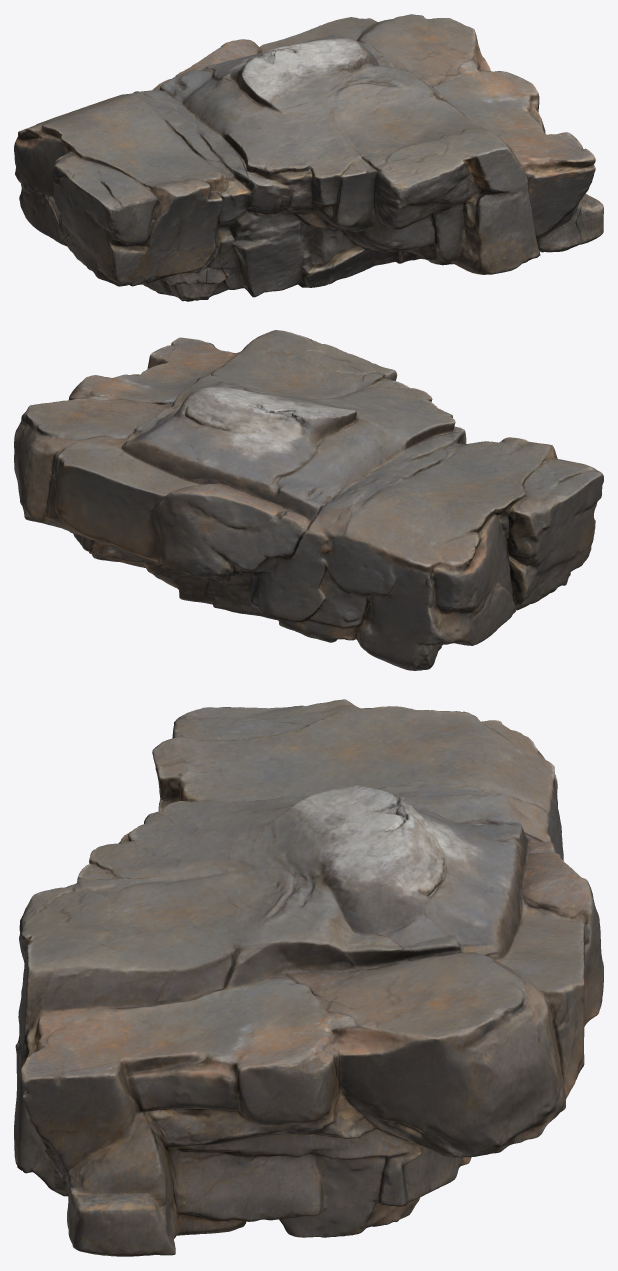
The model's file is Ancient_Slate_Slab.glb.
The picture shows the model from 3 angles, top to bottom: view 1: azimuth 30°, elevation 25°; view 2: azimuth 150°, elevation 25°; view 3: azimuth 270°, elevation 25°; orthographic projection. The views are drawn at different scales.
Bounding box in the file's own units: 1.9 × 0.7046 × 1.3.
1 material, 1 textured.
